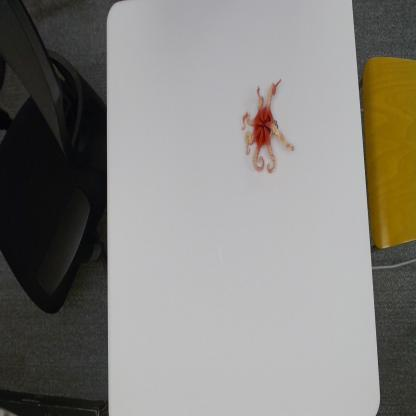Octopus: (240, 75, 296, 175)
